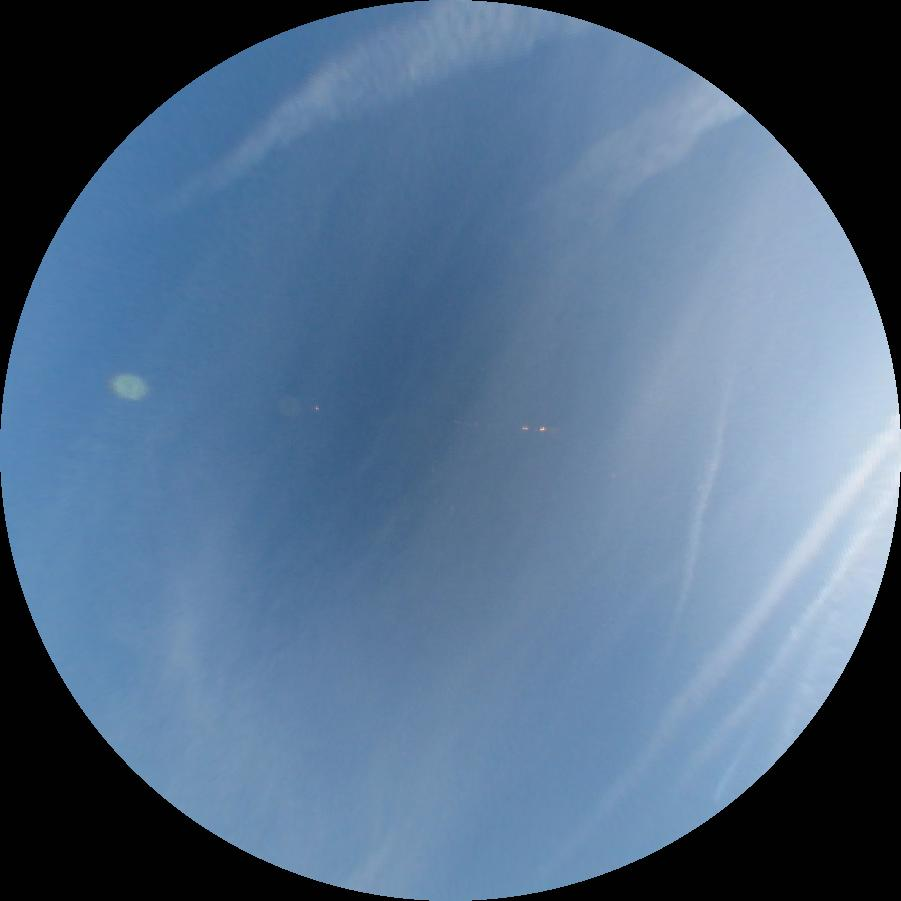contrail old: (660, 341, 731, 674)
contrail veryold: (532, 425, 893, 876), (150, 4, 590, 216), (680, 485, 897, 786), (535, 79, 748, 232)
contrail young: (712, 730, 750, 805)
